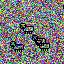sheep: (9, 40, 24, 52), (32, 34, 46, 46), (36, 39, 50, 51), (19, 23, 34, 34)
